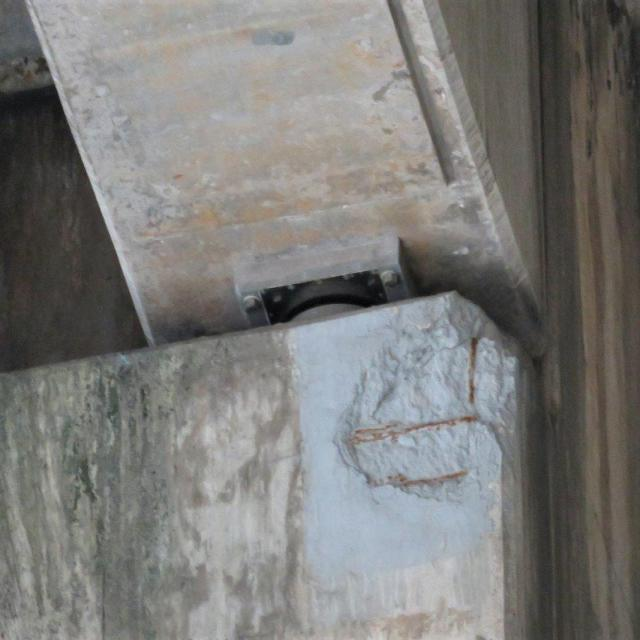Rebar: (330, 290, 520, 506)
